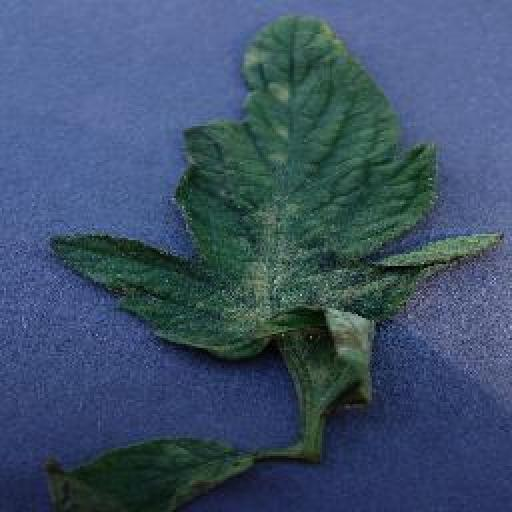disease_tomato: (54, 15, 507, 405)
